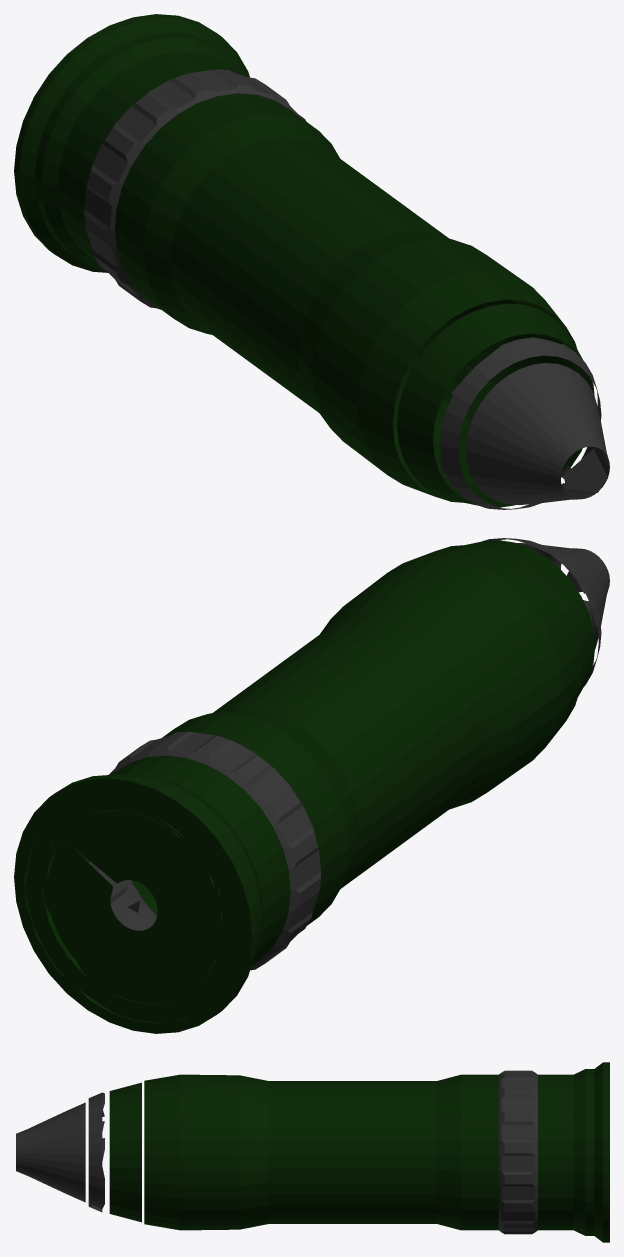
The model's file is shell.glb.
The picture shows the model from 3 angles, top to bottom: view 1: azimuth 30°, elevation 25°; view 2: azimuth 150°, elevation 25°; view 3: azimuth 270°, elevation 25°; orthographic projection. The views are drawn at different scales.
Visible parts, largest first — view 1: TankShell_TankShell_0; view 2: TankShell_TankShell_0; view 3: TankShell_TankShell_0.
Part boxes in pixels (x1,y1,x2,y2): TankShell_TankShell_0: (14,14,609,509); TankShell_TankShell_0: (14,538,609,1033); TankShell_TankShell_0: (16,1062,609,1242).
Bounding box in the file's own units: 7.46 × 7.46 × 24.65.
